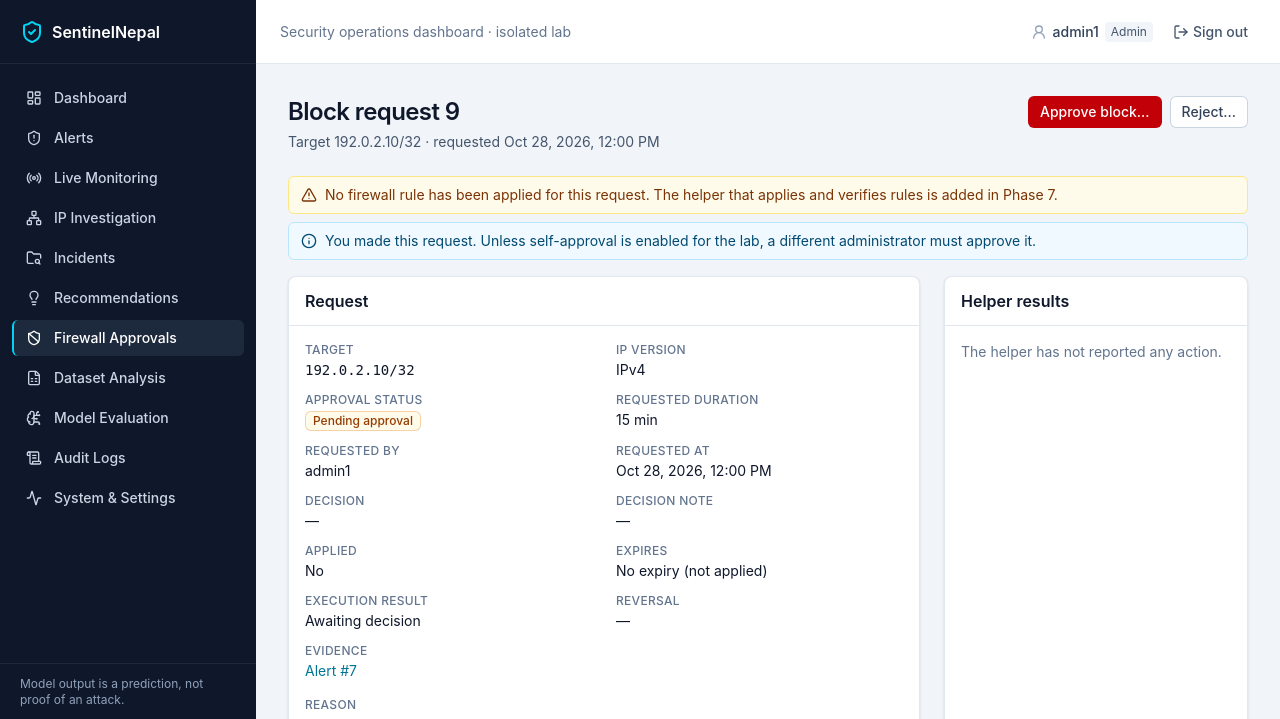
Firewall approvals › shows the server refusal of self-approval
The image size is (1280, 719).
Expected: the text "You made this request" is shown, [325,232,1036,249]
Click the button "Approve block…": (1095, 112) [1028,96,1162,128]
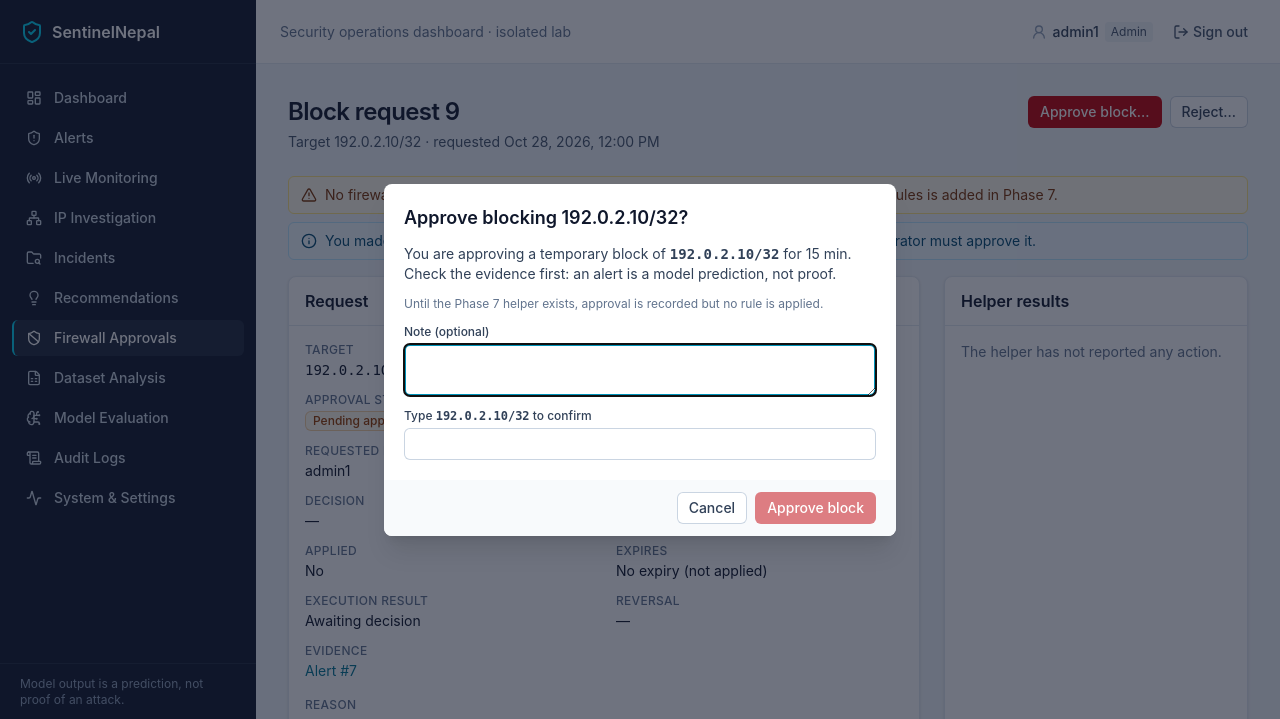
In the field labelled "Type 192.0.2.10/32 to confirm": (640, 444) [404,428,876,460], type "192.0.2.10/32"
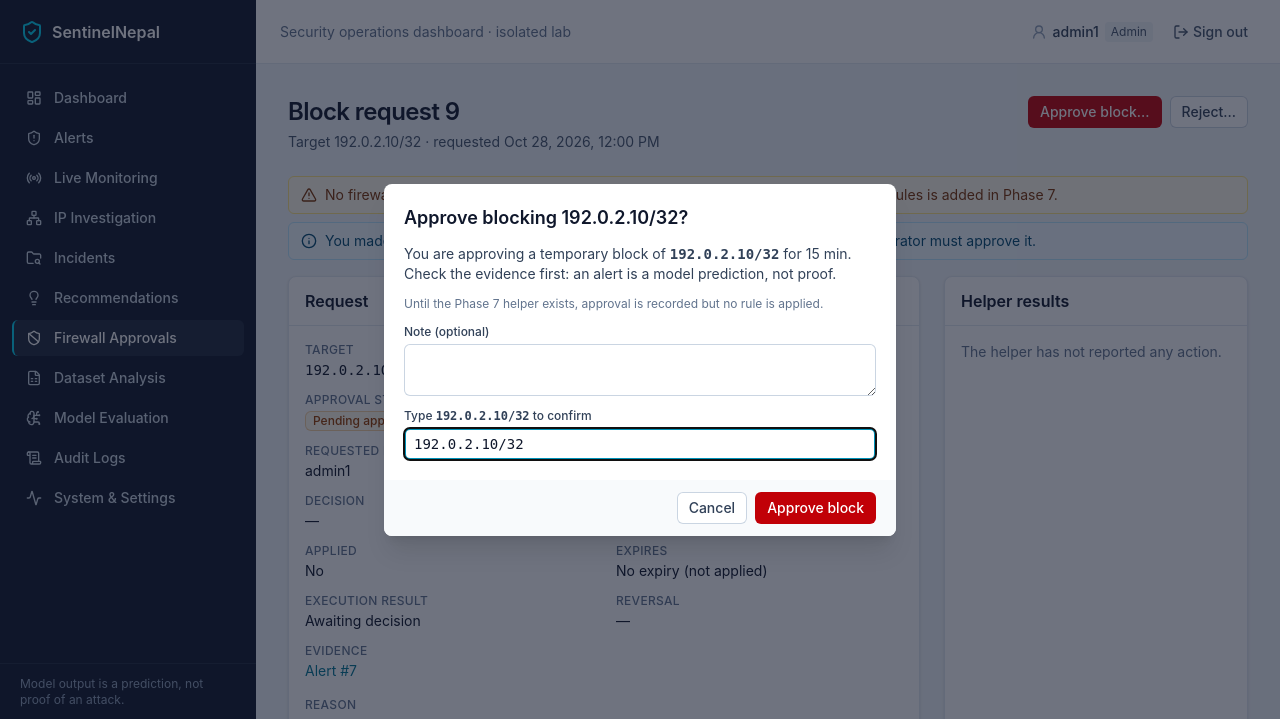
Click the button "Approve block": (816, 508) [755,492,876,524]
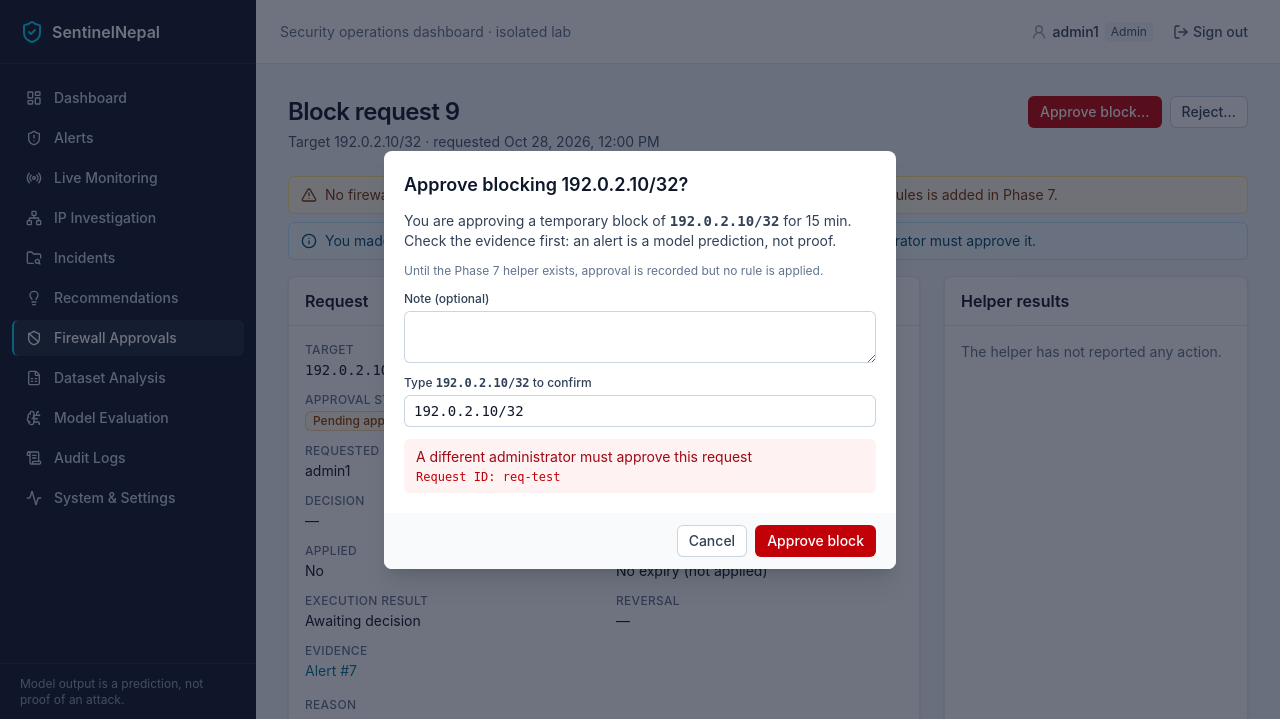
Expected: the message shows "A different administrator must approve this request", [416,448,752,465]
